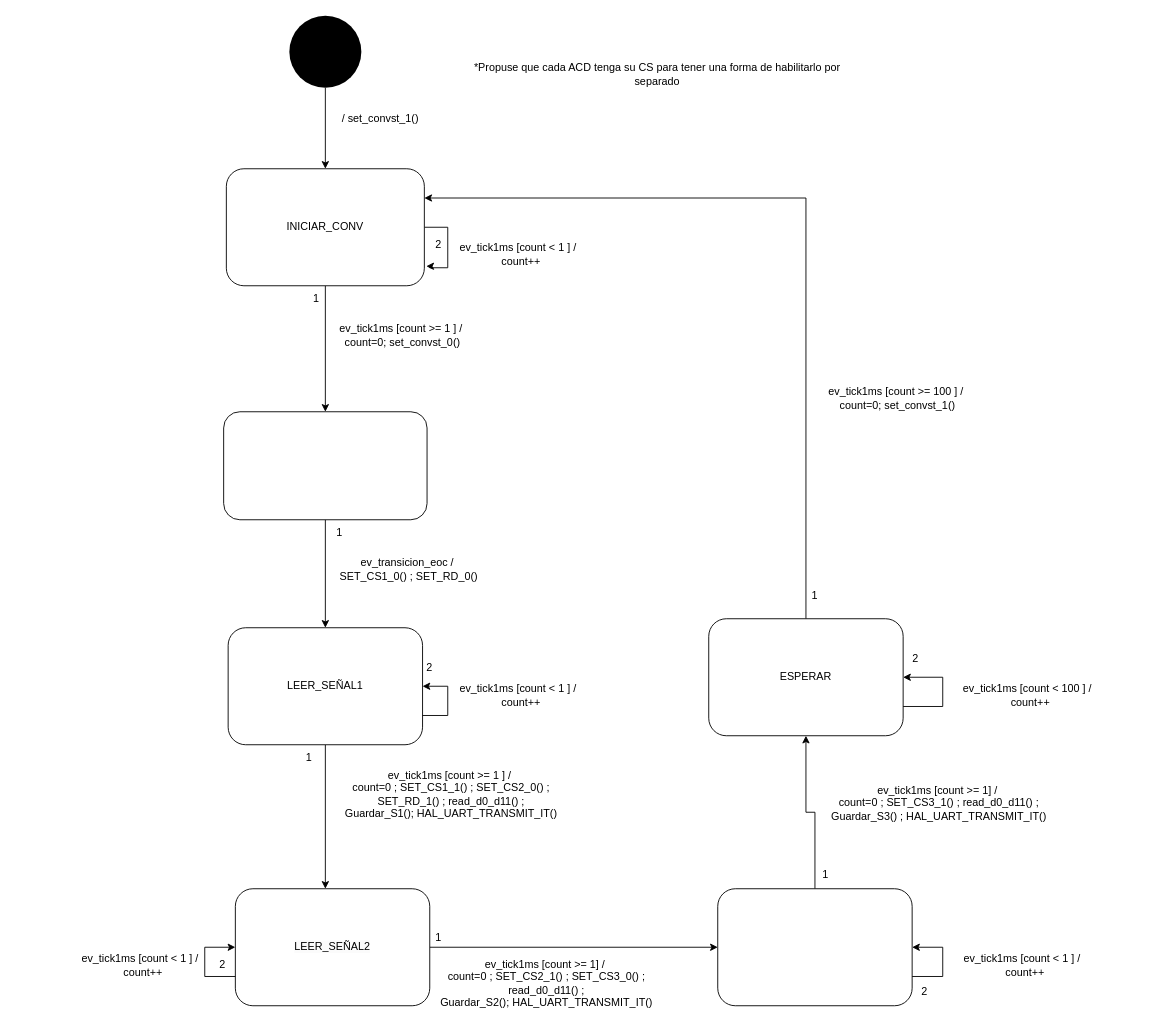
Some shapes in this 1170 by 1024 pixel diagram are drawn without their labels. Here are the shapes that lost their labels. From the top down, the centre of each, then its label:
At (x=325, y=465): "LEER_EOC".
At (x=814, y=947): "LEER_SEÑAL3".
